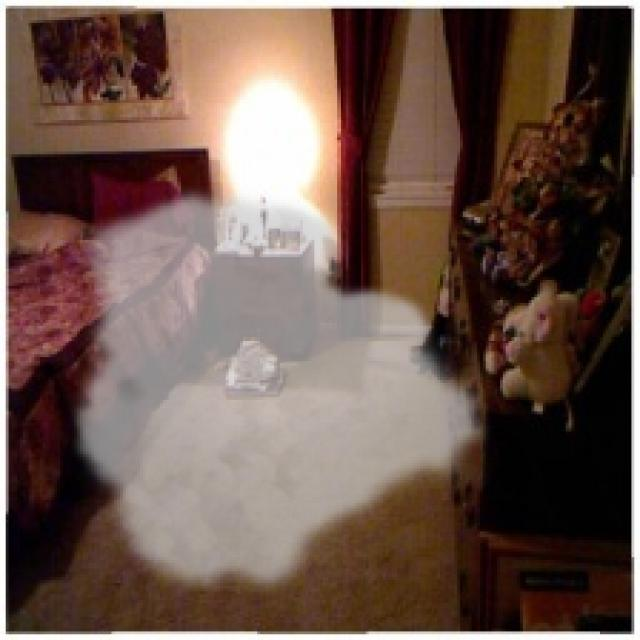smoke: (69, 186, 494, 603)
